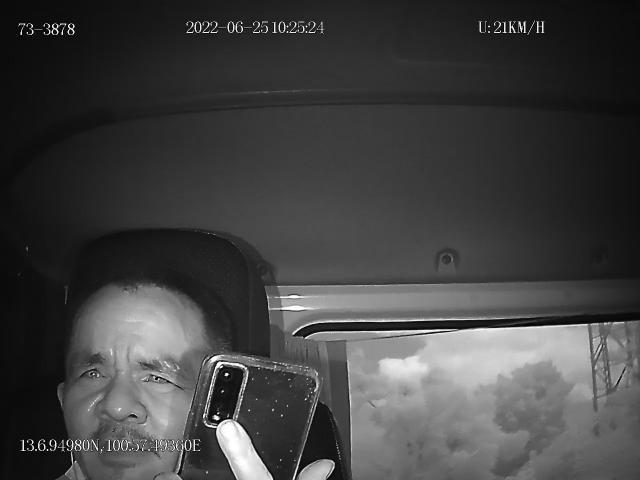PhoneUse: (174, 352, 324, 480)
SafeDriving: (134, 359, 182, 393), (74, 354, 112, 389)
